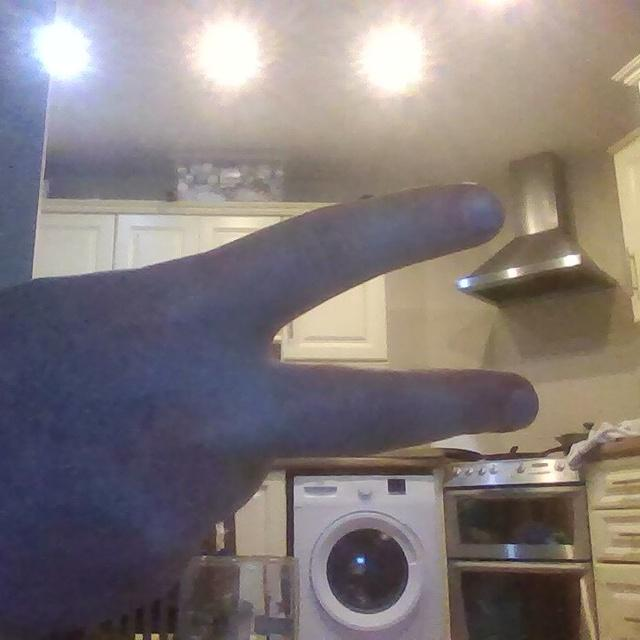scissors: (16, 185, 542, 622)
